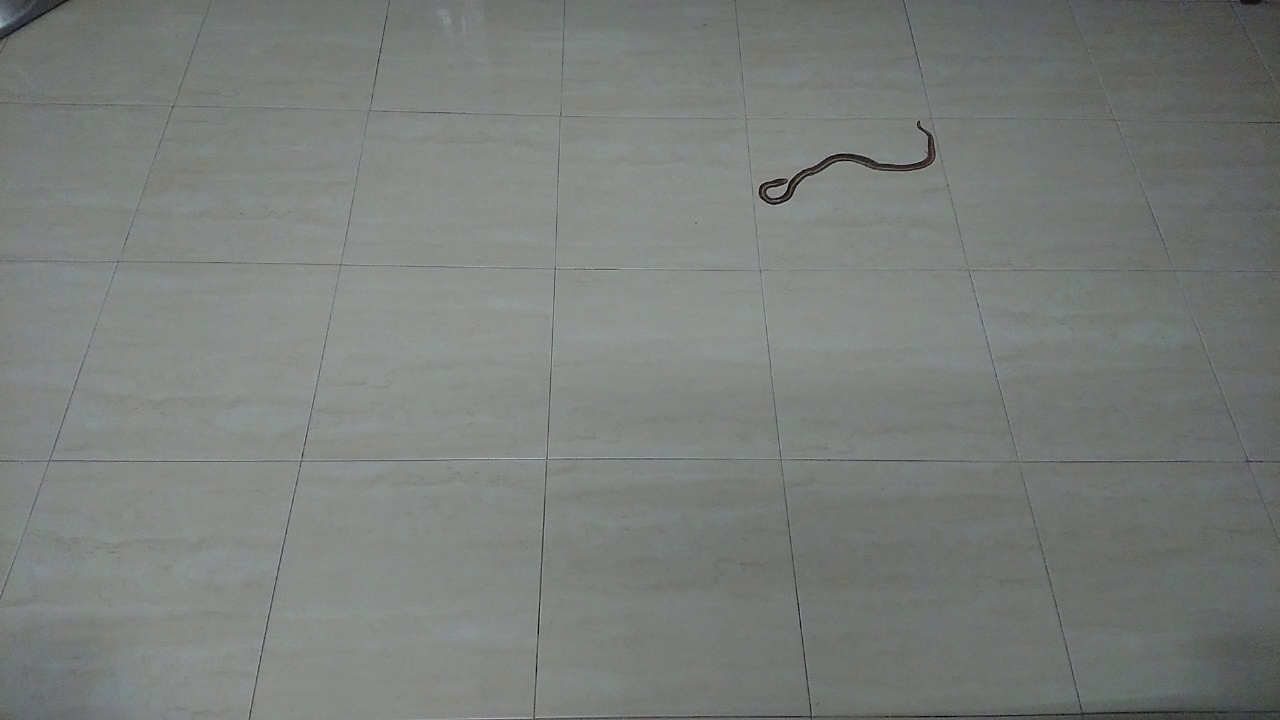snake: (743, 111, 948, 215)
